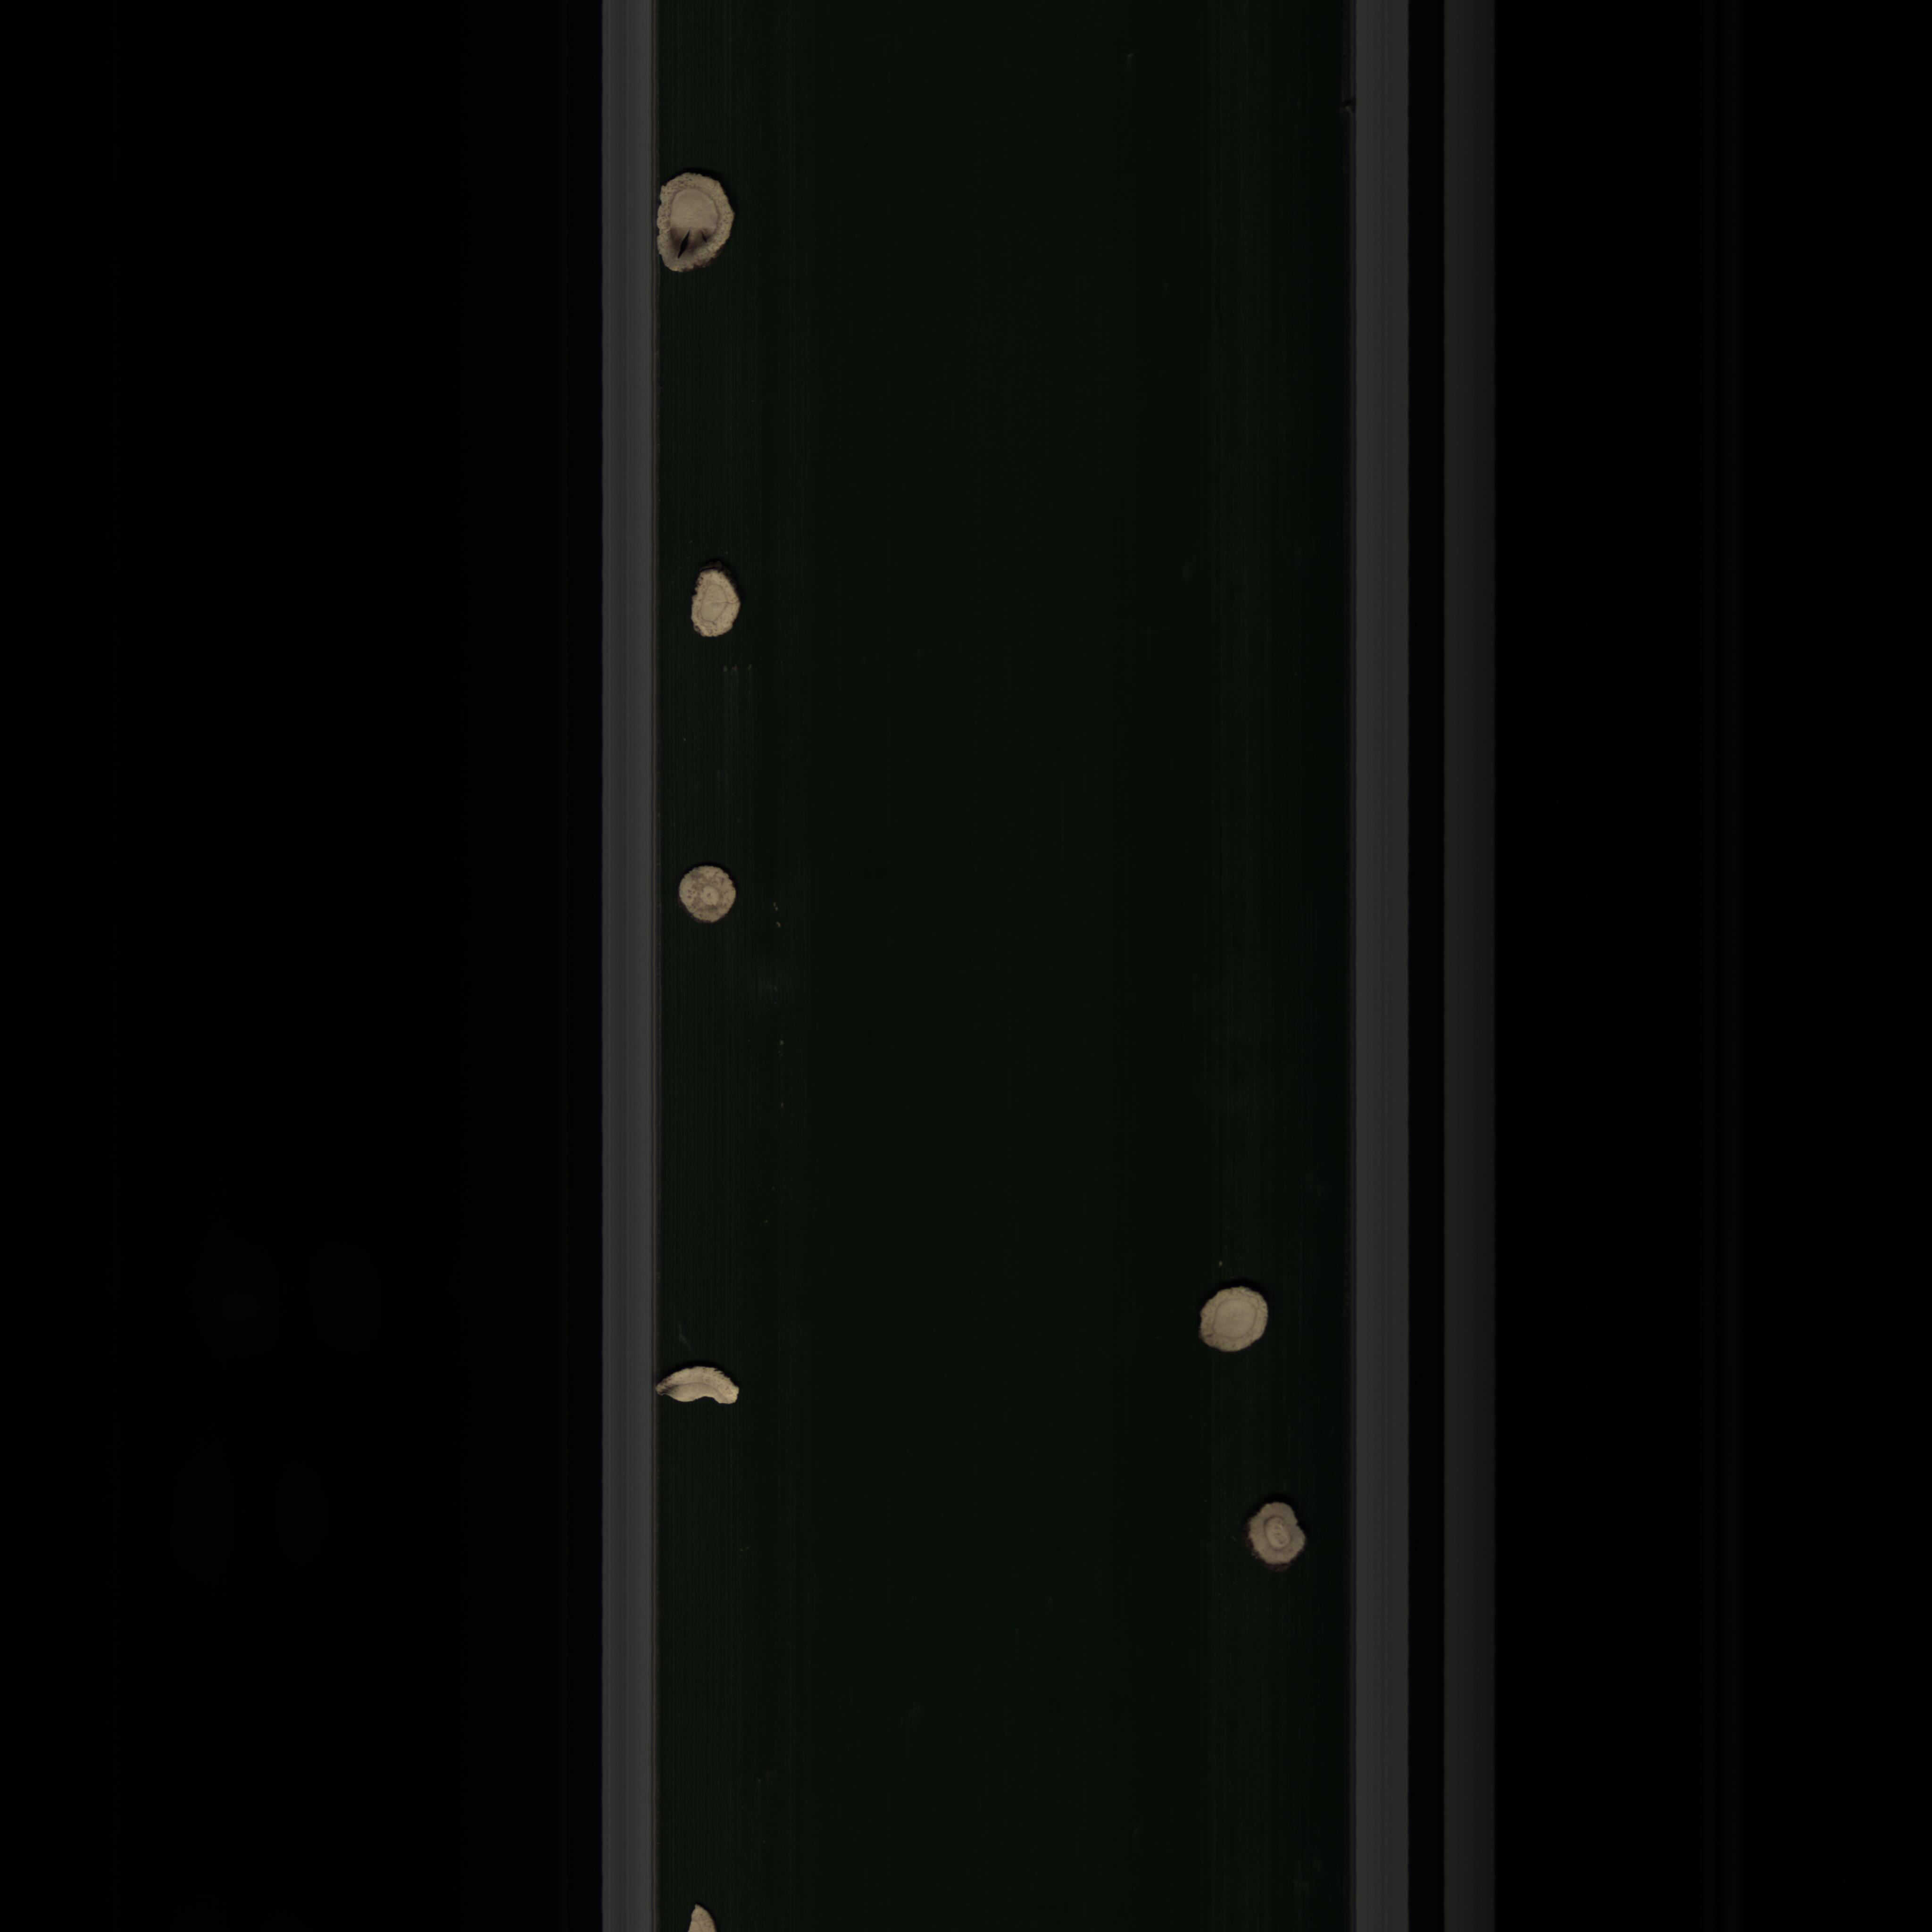debris: (658, 1362, 748, 1414)
moldy: (653, 172, 743, 285)
